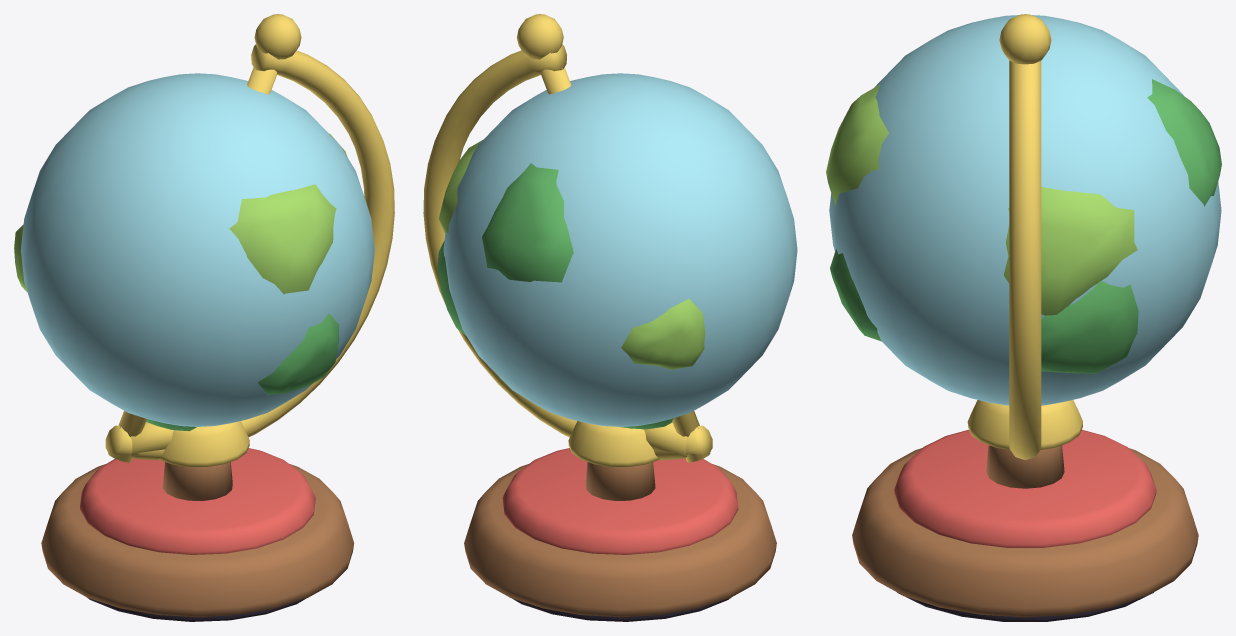
The model's file is mini-globe.glb.
The picture shows the model from 3 angles, left to right: view 1: azimuth 30°, elevation 25°; view 2: azimuth 150°, elevation 25°; view 3: azimuth 270°, elevation 25°; orthographic projection. The views are drawn at different scales.
Visible parts, largest first — view 1: ShopMiniGlobe_Ocean, ShopMiniGlobe_WoodStand, ShopMiniGlobe_MeridianAndFinial, ShopMiniGlobe_CoralCollar, ShopMiniGlobe_ContinentsLight, ShopMiniGlobe_ContinentsMid, ShopMiniGlobe_BasePad; view 2: ShopMiniGlobe_Ocean, ShopMiniGlobe_WoodStand, ShopMiniGlobe_CoralCollar, ShopMiniGlobe_MeridianAndFinial, ShopMiniGlobe_ContinentsMid, ShopMiniGlobe_ContinentsLight, ShopMiniGlobe_BasePad; view 3: ShopMiniGlobe_Ocean, ShopMiniGlobe_WoodStand, ShopMiniGlobe_CoralCollar, ShopMiniGlobe_MeridianAndFinial, ShopMiniGlobe_ContinentsLight, ShopMiniGlobe_ContinentsMid, ShopMiniGlobe_BasePad.
Boxes of the visible parts, x1,y1,x2,y2 form: ShopMiniGlobe_Ocean: (20, 73, 374, 426); ShopMiniGlobe_WoodStand: (41, 462, 354, 617); ShopMiniGlobe_MeridianAndFinial: (105, 14, 394, 466); ShopMiniGlobe_CoralCollar: (80, 448, 315, 554); ShopMiniGlobe_ContinentsLight: (14, 133, 347, 294); ShopMiniGlobe_ContinentsMid: (146, 313, 339, 431); ShopMiniGlobe_BasePad: (88, 598, 305, 621); ShopMiniGlobe_Ocean: (443, 73, 797, 426); ShopMiniGlobe_WoodStand: (464, 462, 776, 617); ShopMiniGlobe_CoralCollar: (502, 448, 738, 554); ShopMiniGlobe_MeridianAndFinial: (423, 14, 712, 466); ShopMiniGlobe_ContinentsMid: (437, 163, 673, 429); ShopMiniGlobe_ContinentsLight: (439, 140, 705, 369); ShopMiniGlobe_BasePad: (512, 598, 730, 621); ShopMiniGlobe_Ocean: (829, 15, 1221, 405); ShopMiniGlobe_WoodStand: (852, 445, 1198, 617); ShopMiniGlobe_CoralCollar: (894, 429, 1156, 547); ShopMiniGlobe_MeridianAndFinial: (967, 14, 1082, 459); ShopMiniGlobe_ContinentsLight: (826, 84, 1137, 315); ShopMiniGlobe_ContinentsMid: (830, 79, 1221, 373); ShopMiniGlobe_BasePad: (897, 592, 1153, 621).
Bounding box in the file's own units: 0.1455 × 0.2112 × 0.1292.
